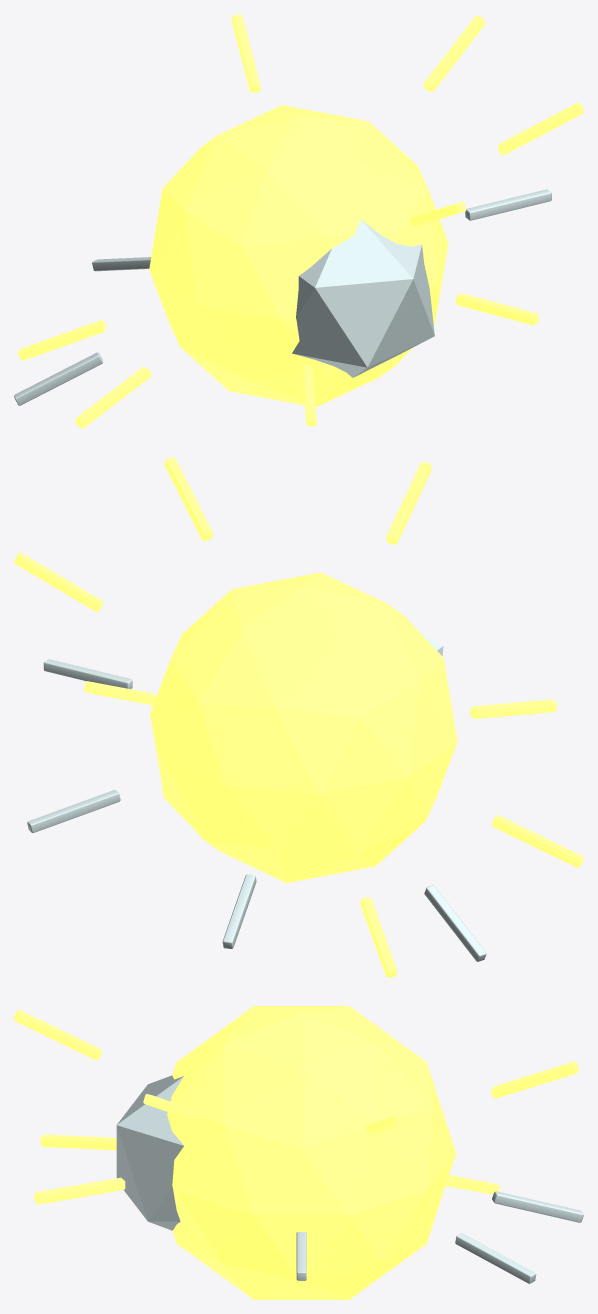
Rendered from VXFX_MISSILE_BURST_v001.fbx.
The picture shows the model from 3 angles, top to bottom: view 1: azimuth 30°, elevation 25°; view 2: azimuth 150°, elevation 25°; view 3: azimuth 270°, elevation 25°; orthographic projection. The views are drawn at different scales.
Visible parts, largest first — view 1: Expanding impact shell, Impact white core, Radial impact shard.009, Radial impact shard.005, Radial impact shard.008, Radial impact shard.004, Radial impact shard.001, Radial impact shard, Radial impact shard.010, Radial impact shard.011, Radial impact shard.006, Radial impact shard.007 (+1 smaller); view 2: Expanding impact shell, Radial impact shard.004, Radial impact shard.008, Radial impact shard.003, Radial impact shard.009, Radial impact shard.005, Radial impact shard.002, Radial impact shard, Radial impact shard.007, Radial impact shard.001, Radial impact shard.006, Radial impact shard.011; view 3: Expanding impact shell, Impact white core, Radial impact shard.002, Radial impact shard.010, Radial impact shard.006, Radial impact shard.003, Radial impact shard.011, Radial impact shard.007, Radial impact shard.005, Radial impact shard.001, Radial impact shard, Radial impact shard.008.
Boxes of the visible parts, box(x1,y1,x2,y2) form: Expanding impact shell: box(149, 105, 448, 406); Impact white core: box(292, 220, 434, 377); Radial impact shard.009: box(14, 352, 102, 405); Radial impact shard.005: box(498, 102, 583, 155); Radial impact shard.008: box(423, 15, 485, 91); Radial impact shard.004: box(75, 367, 151, 428); Radial impact shard.001: box(18, 320, 106, 360); Radial impact shard: box(465, 189, 551, 220); Radial impact shard.010: box(456, 293, 538, 325); Radial impact shard.011: box(231, 14, 260, 92); Radial impact shard.006: box(92, 257, 151, 271); Radial impact shard.007: box(302, 365, 316, 426); Expanding impact shell: box(150, 572, 457, 882); Radial impact shard.004: box(491, 815, 583, 867); Radial impact shard.008: box(14, 552, 103, 612); Radial impact shard.003: box(27, 790, 120, 833); Radial impact shard.009: box(424, 885, 486, 961); Radial impact shard.005: box(164, 457, 213, 540); Radial impact shard.002: box(386, 462, 431, 544); Radial impact shard: box(43, 659, 132, 689); Radial impact shard.007: box(470, 699, 557, 718); Radial impact shard.001: box(360, 897, 396, 977); Radial impact shard.006: box(222, 874, 256, 948); Radial impact shard.011: box(84, 681, 156, 705); Expanding impact shell: box(167, 1006, 455, 1299); Impact white core: box(116, 1075, 183, 1230); Radial impact shard.002: box(14, 1010, 101, 1060); Radial impact shard.010: box(34, 1177, 125, 1204); Radial impact shard.006: box(492, 1191, 583, 1222); Radial impact shard.003: box(455, 1233, 536, 1283); Radial impact shard.011: box(490, 1061, 579, 1098); Radial impact shard.007: box(40, 1134, 116, 1150); Radial impact shard.005: box(143, 1094, 197, 1120); Radial impact shard.001: box(445, 1175, 500, 1194); Radial impact shard: box(296, 1232, 306, 1280); Radial impact shard.008: box(366, 1115, 404, 1135).
Bounding box in the file's own units: 45.1 × 25.62 × 44.27.
